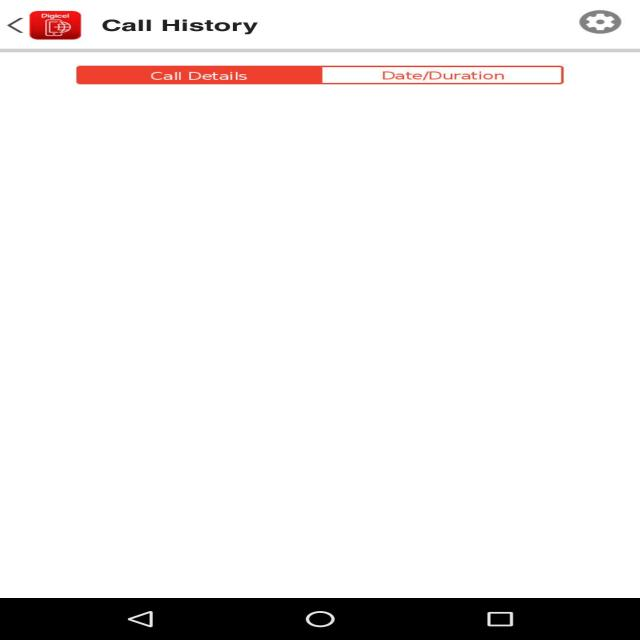button: (74, 56, 582, 96), (15, 8, 96, 55), (572, 6, 638, 42)
text: (91, 12, 310, 35)
